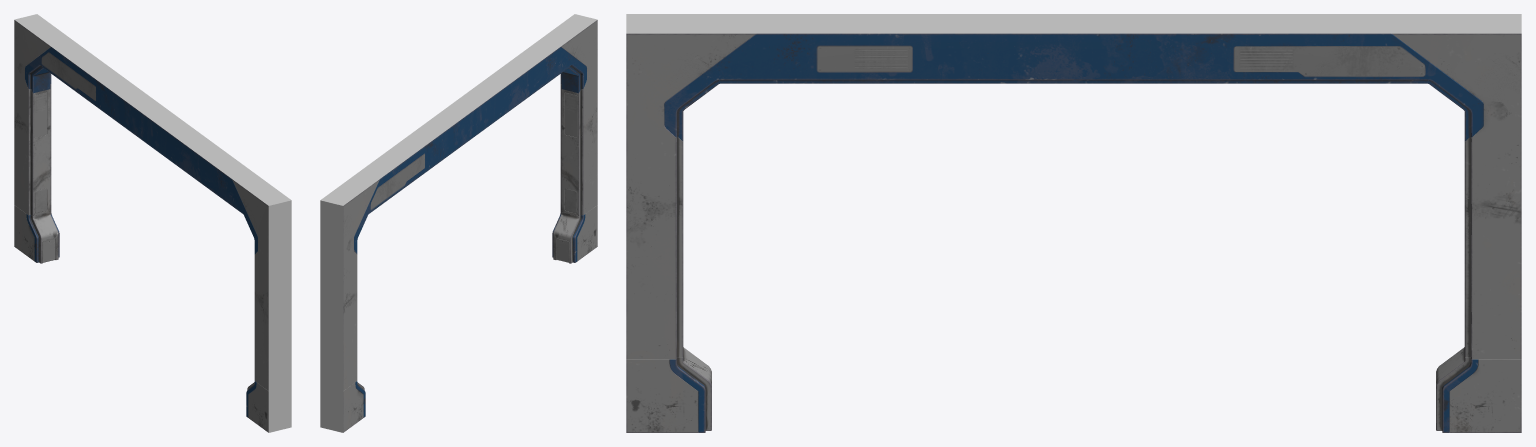
File: SM_CorridorColumn01.fbx
3 renders of one model, left to right at view 1: azimuth 30°, elevation 25°; view 2: azimuth 150°, elevation 25°; view 3: azimuth 270°, elevation 25°, orthographic. The views are drawn at different scales.
Visible parts, largest first — view 1: SM_CorridorColumn01_LOD0; view 2: SM_CorridorColumn01_LOD0; view 3: SM_CorridorColumn01_LOD0.
Boxes of the visible parts, x1,y1,x2,y2 form: SM_CorridorColumn01_LOD0: (14,14,291,432); SM_CorridorColumn01_LOD0: (320,14,597,432); SM_CorridorColumn01_LOD0: (626,14,1521,432).
Size of the model in its own units: 40.2 by 770 by 379.
2 materials, 1 textured.
